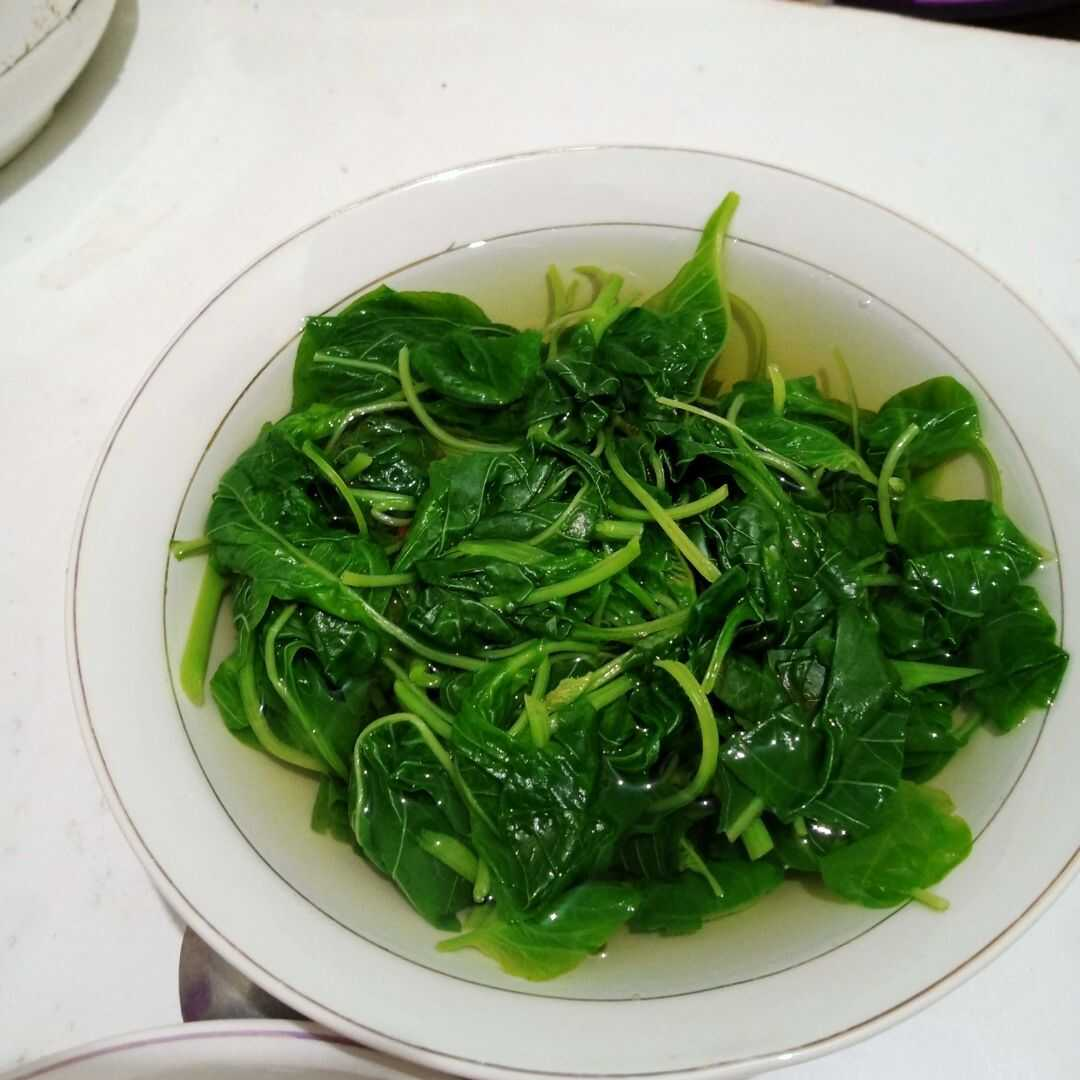Sayur Bayam: (197, 239, 989, 913)
